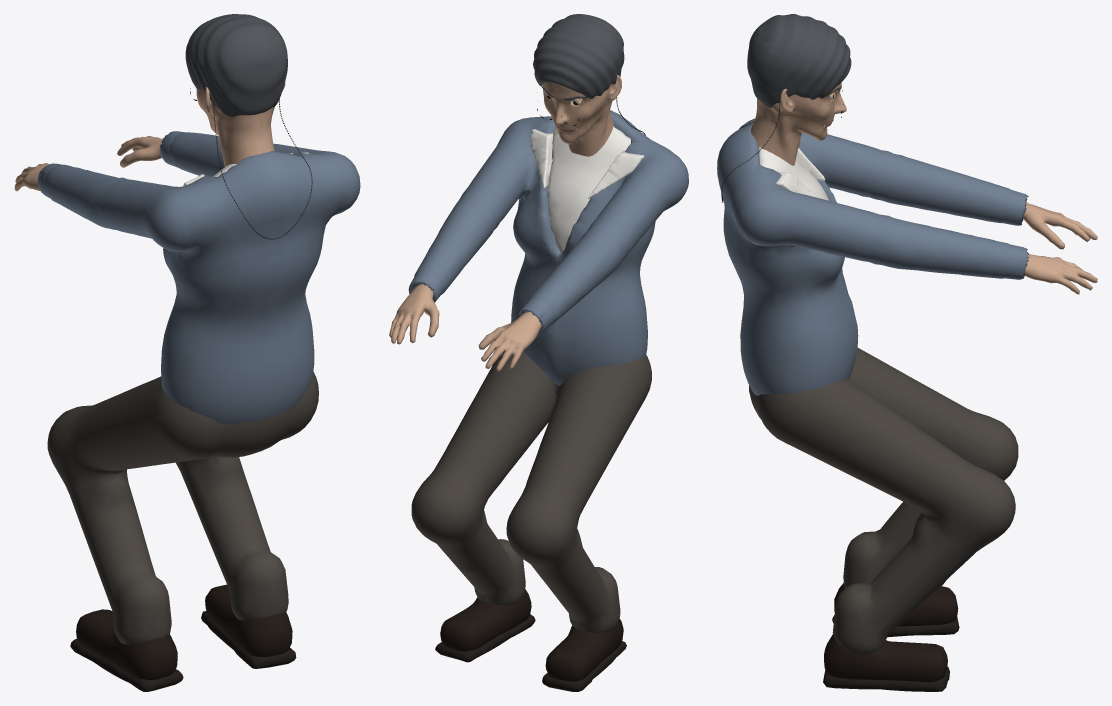
File: bookkeeper_bar.glb
The picture shows the model from 3 angles, left to right: view 1: azimuth 30°, elevation 25°; view 2: azimuth 150°, elevation 25°; view 3: azimuth 270°, elevation 25°; orthographic projection. The views are drawn at different scales.
Parts seen in each view (by area): view 1: bookkeeper_bar_body, bookkeeper_bar_head, bookkeeper_bar_hands; view 2: bookkeeper_bar_body, bookkeeper_bar_head, bookkeeper_bar_hands; view 3: bookkeeper_bar_body, bookkeeper_bar_head, bookkeeper_bar_hands.
Boxes of the visible parts, x1,y1,x2,y2 form: bookkeeper_bar_body: (44, 132, 360, 691); bookkeeper_bar_head: (183, 14, 308, 186); bookkeeper_bar_hands: (14, 131, 185, 198); bookkeeper_bar_body: (411, 110, 688, 691); bookkeeper_bar_head: (530, 14, 644, 198); bookkeeper_bar_hands: (389, 269, 553, 371); bookkeeper_bar_body: (717, 118, 1018, 691); bookkeeper_bar_head: (747, 14, 851, 198); bookkeeper_bar_hands: (1002, 190, 1097, 294).
Size of the model in its own units: 0.4372 by 1.39 by 0.7514.
